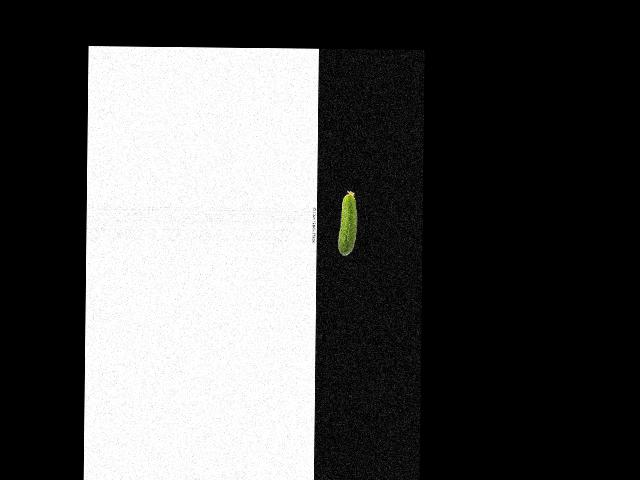cucumber: (338, 191, 357, 256)
